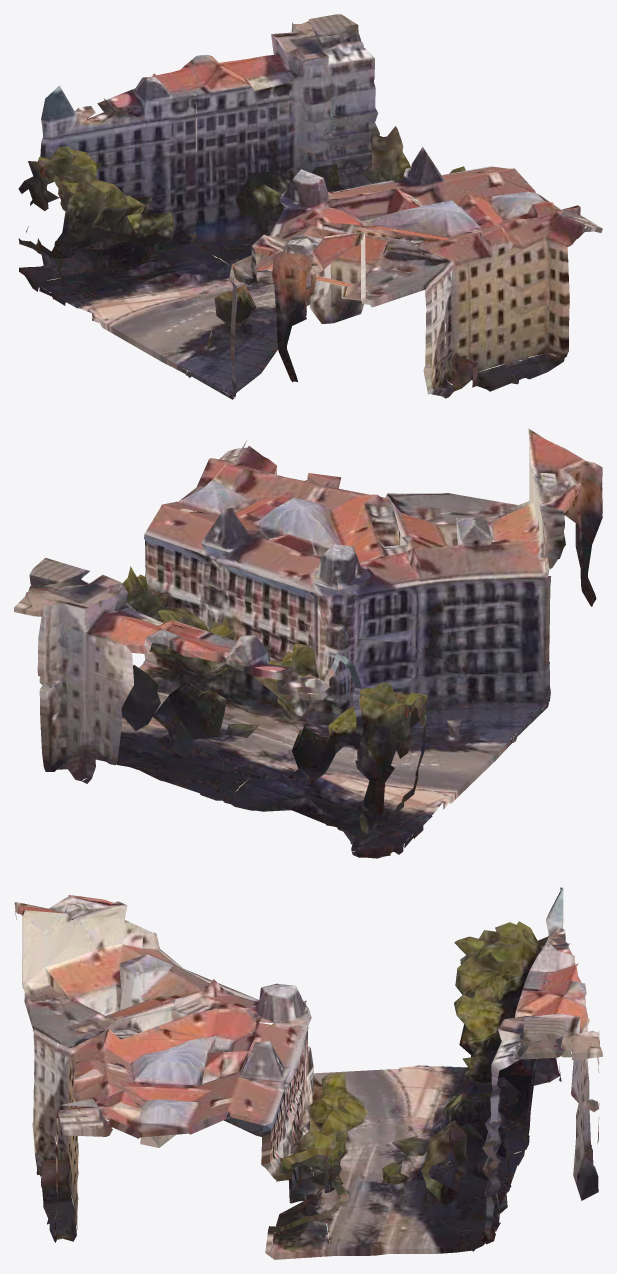
The picture shows the model from 3 angles, top to bottom: view 1: azimuth 30°, elevation 25°; view 2: azimuth 150°, elevation 25°; view 3: azimuth 270°, elevation 25°; orthographic projection. The views are drawn at different scales.
Parts seen in each view (by area): view 1: Mesh_0; view 2: Mesh_0; view 3: Mesh_0.
Boxes of the visible parts, x1,y1,x2,y2 form: Mesh_0: (18,14,602,399); Mesh_0: (14,428,602,858); Mesh_0: (14,887,602,1259).
Size of the model in its own units: 67.47 by 34.7 by 82.56.
1 material, 1 textured.
